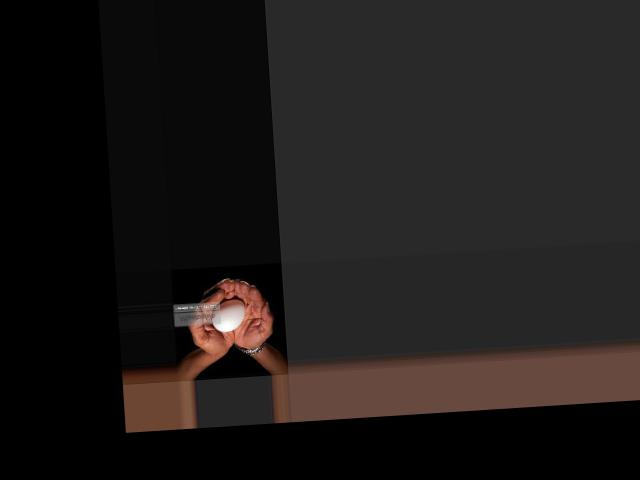egg: (211, 297, 247, 332)
